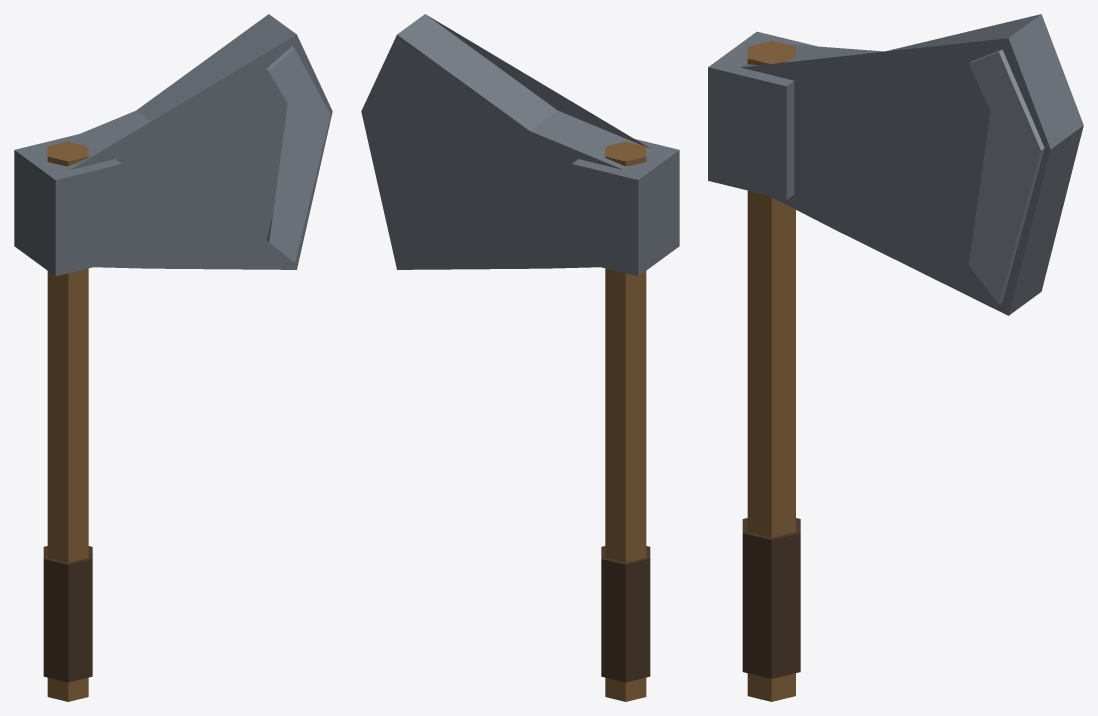
File: ironAxe.glb
3 views of the same model, side by side, from view 1: azimuth 30°, elevation 25°; view 2: azimuth 150°, elevation 25°; view 3: azimuth 330°, elevation 25° (orthographic). The views are drawn at different scales.
Parts seen in each view (by area): view 1: ironAxe; view 2: ironAxe; view 3: ironAxe.
Part boxes in pixels (x1,y1,x2,y2): ironAxe: (14,14,332,701); ironAxe: (361,14,679,701); ironAxe: (708,14,1083,701).
Bounding box in the file's own units: 0.4826 × 1 × 0.1217.
